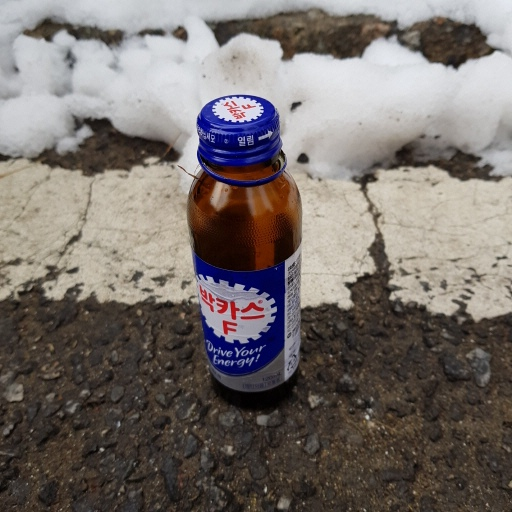Glass_3: (185, 89, 307, 403)
